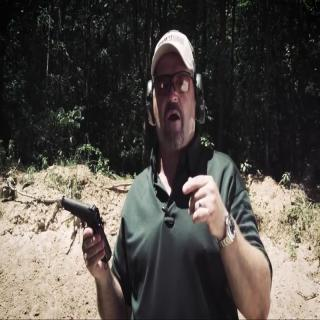gun: (61, 191, 117, 273)
